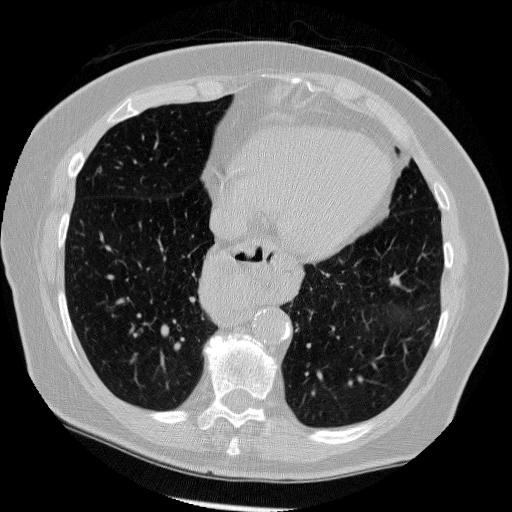nodule: (385, 271, 404, 290)
